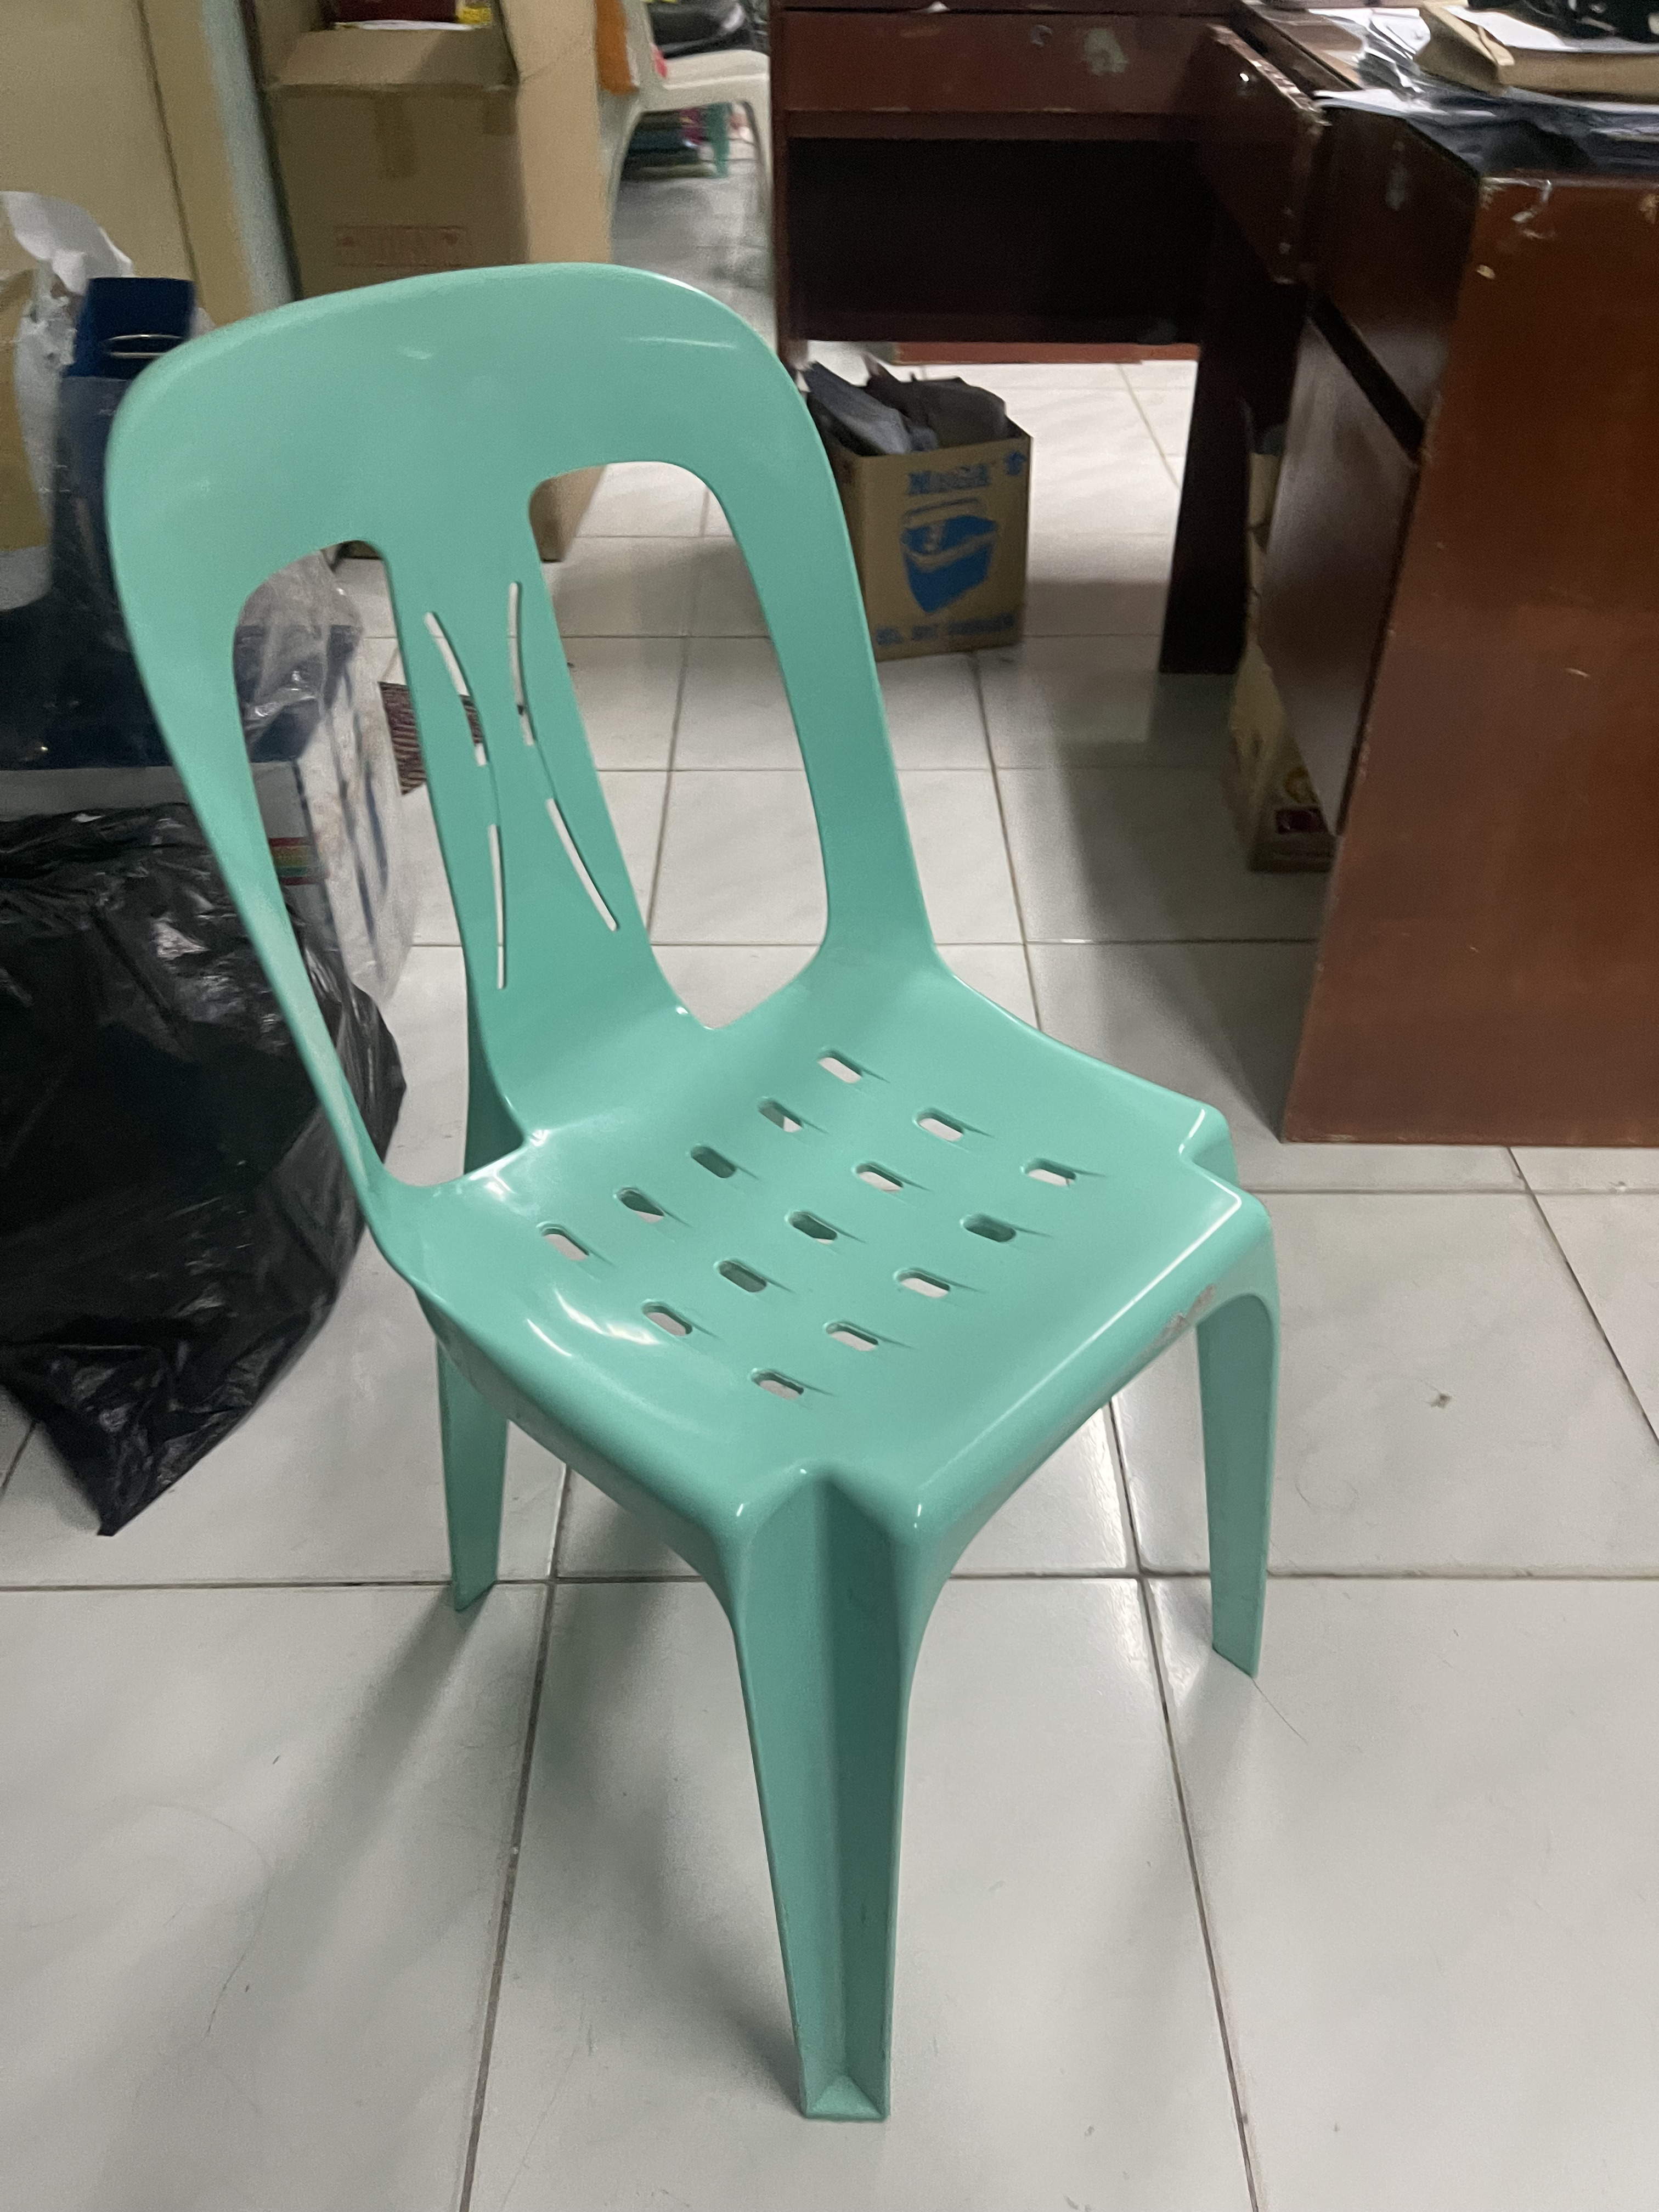chair2: (96, 247, 1283, 2137)
